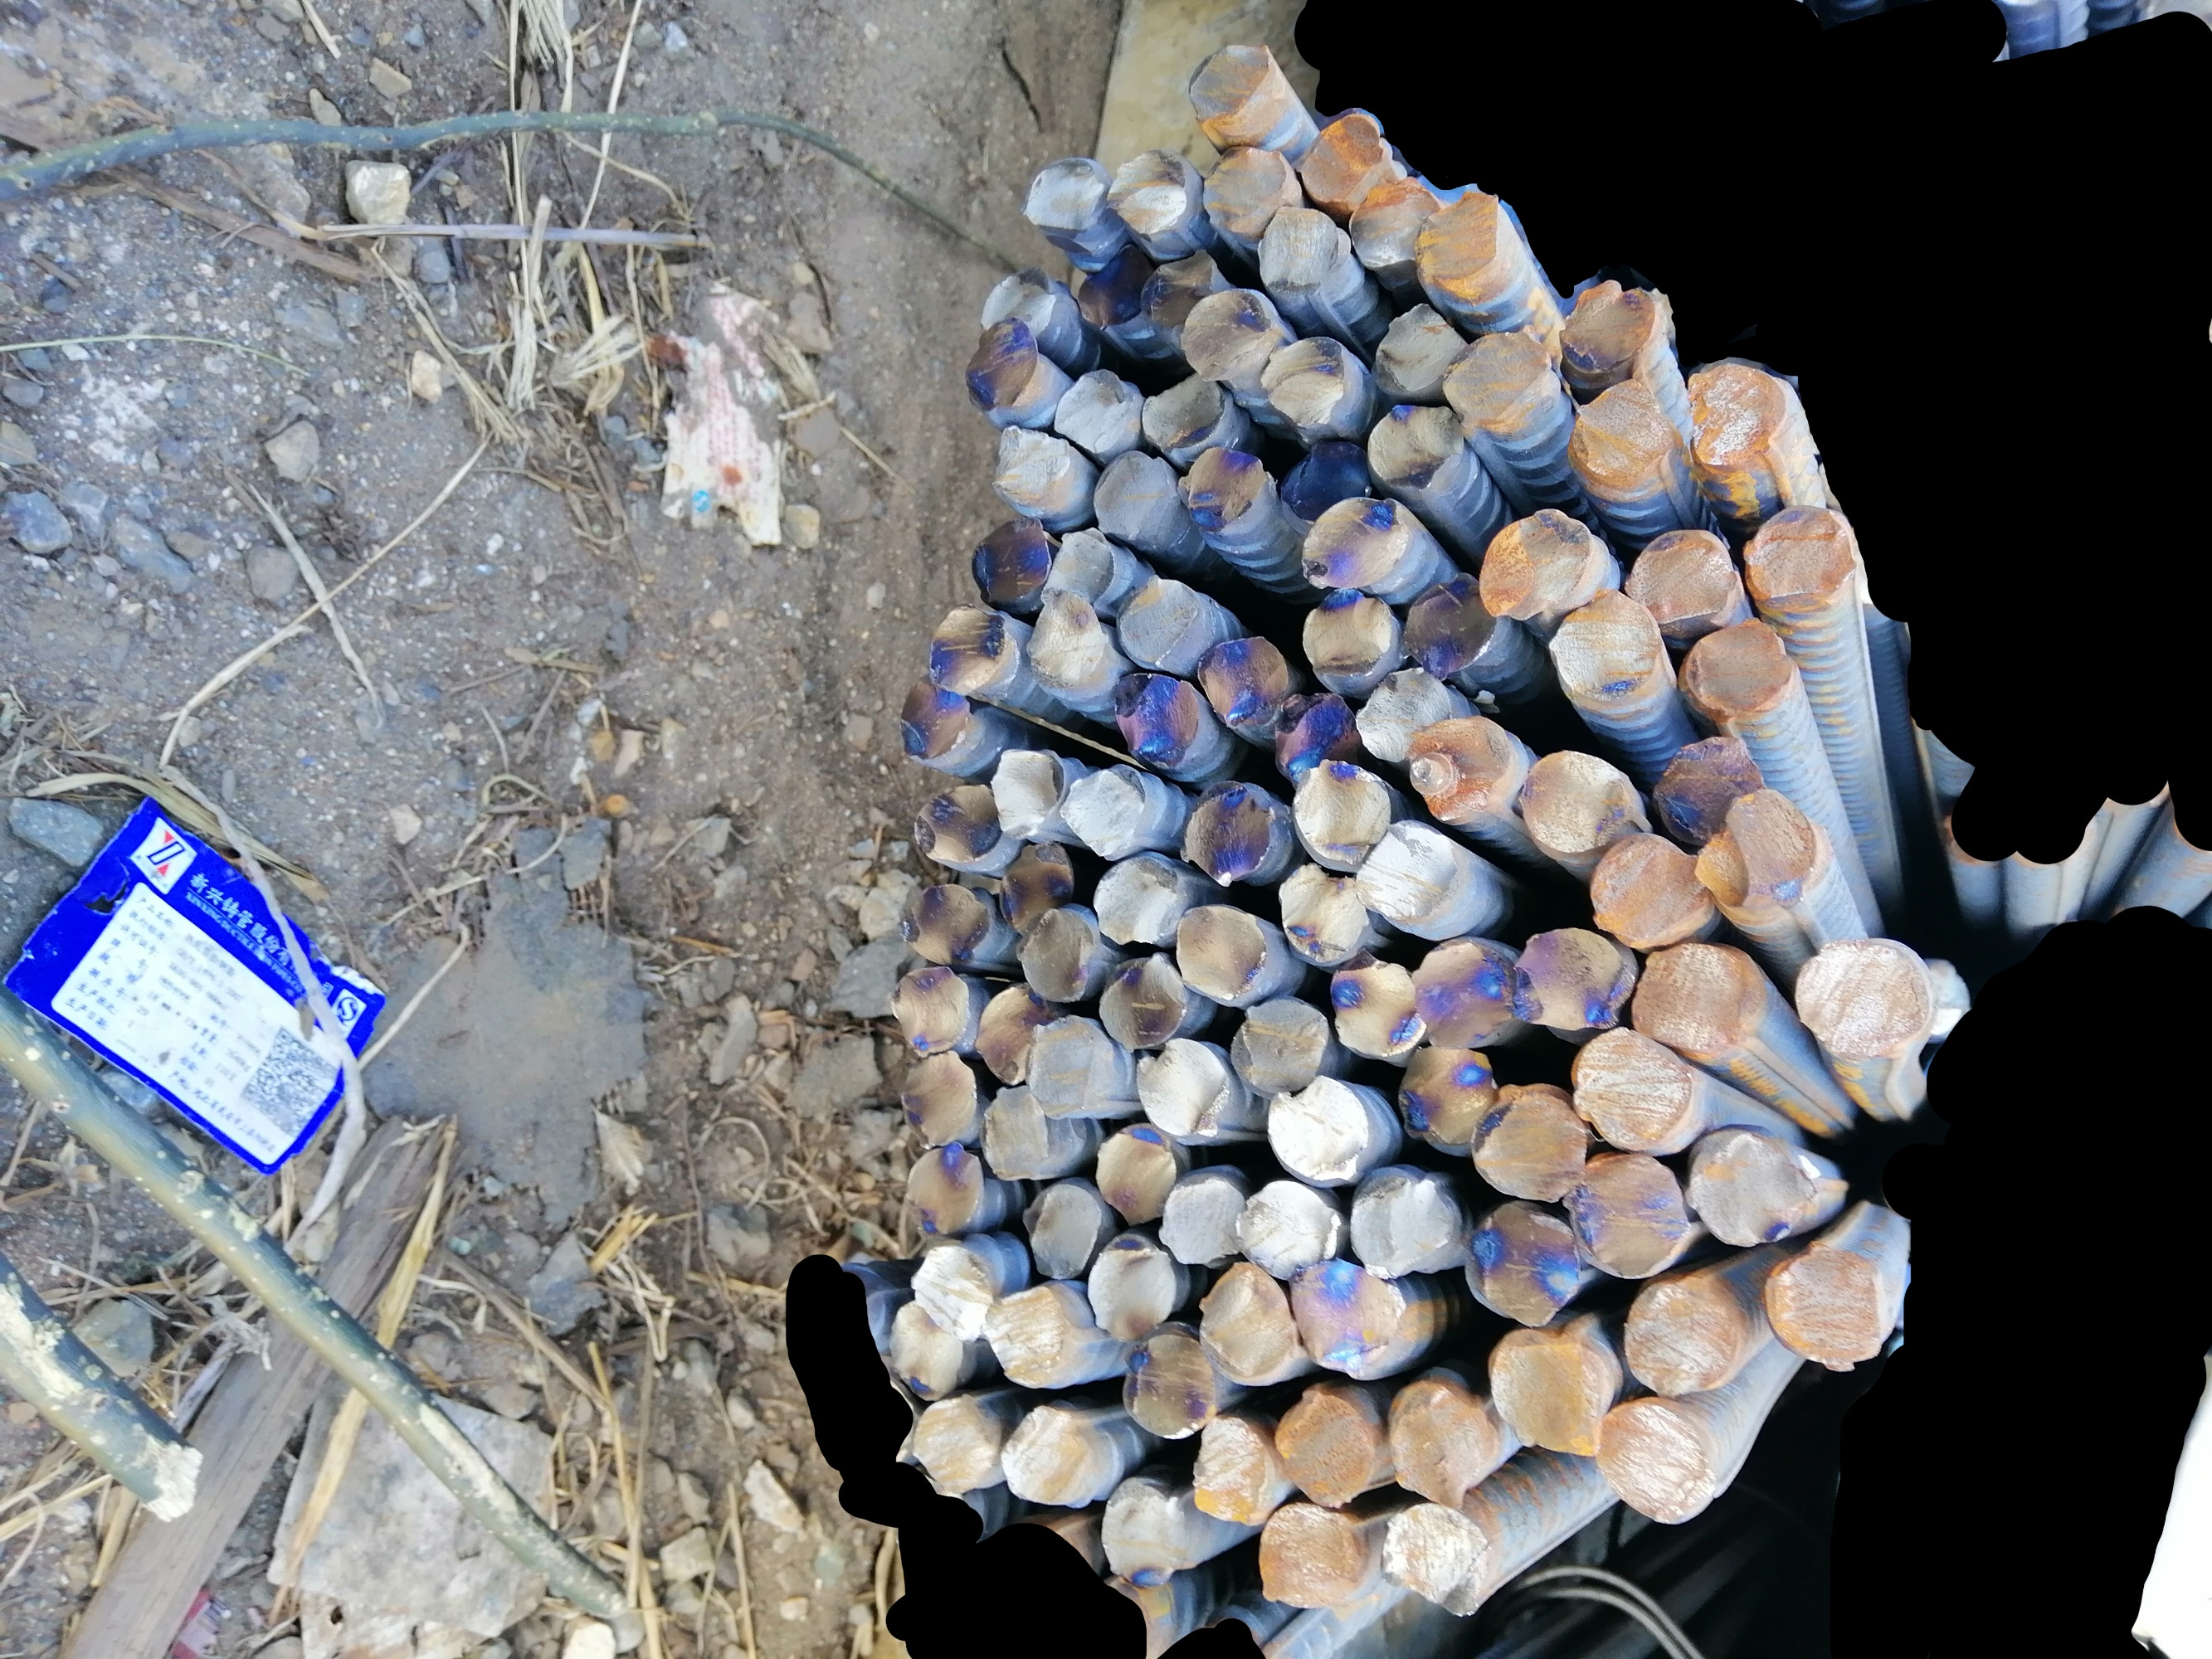rebar: (1628, 938, 1768, 1068), (1794, 932, 1935, 1061), (1560, 1148, 1693, 1281), (1686, 1124, 1816, 1256), (1691, 782, 1818, 917), (1483, 1323, 1607, 1459), (1764, 1241, 1886, 1377), (1593, 1392, 1717, 1523), (1468, 1079, 1591, 1208), (1571, 1025, 1693, 1154), (1462, 1201, 1581, 1330), (1591, 828, 1710, 950), (1475, 500, 1591, 622), (1677, 612, 1801, 727), (1623, 1276, 1736, 1401), (1651, 734, 1773, 849), (1290, 1248, 1405, 1368), (1515, 748, 1642, 856), (1194, 1256, 1297, 1389), (1738, 498, 1855, 613), (1381, 1380, 1485, 1507), (1382, 1502, 1497, 1617), (1349, 1161, 1457, 1283), (1546, 587, 1659, 701), (1503, 925, 1623, 1032), (1274, 1382, 1372, 1511), (1621, 526, 1743, 629), (1408, 936, 1515, 1051), (1264, 1073, 1370, 1187), (1686, 359, 1790, 472), (1401, 716, 1515, 821), (1119, 1319, 1217, 1439), (1259, 1504, 1365, 1614), (1567, 373, 1672, 484), (1557, 267, 1663, 375), (1231, 1175, 1339, 1281), (1356, 817, 1462, 924), (1297, 495, 1414, 591), (1328, 950, 1431, 1058), (1396, 1037, 1499, 1145), (1175, 777, 1278, 884), (1414, 181, 1510, 295), (1295, 755, 1393, 864), (1002, 1401, 1096, 1514), (1100, 1471, 1184, 1593), (1445, 329, 1551, 425), (1023, 589, 1116, 699), (1353, 662, 1452, 763), (1288, 112, 1393, 207), (1178, 277, 1276, 378), (1232, 995, 1328, 1098), (1089, 1232, 1180, 1340), (1095, 950, 1191, 1051), (1117, 573, 1211, 676), (1405, 565, 1490, 678), (1137, 1037, 1227, 1141), (1194, 1412, 1274, 1528), (1175, 903, 1269, 1002), (1276, 863, 1368, 964), (1374, 300, 1469, 396), (1198, 629, 1285, 734), (1089, 450, 1184, 545), (1110, 669, 1203, 767), (1201, 145, 1297, 237), (927, 605, 1020, 699), (1299, 587, 1394, 678), (1276, 434, 1375, 521), (903, 1141, 987, 1244), (987, 1286, 1070, 1389), (973, 507, 1055, 612), (1347, 174, 1435, 272), (1062, 760, 1149, 857), (1093, 849, 1180, 946), (994, 836, 1079, 936), (1095, 1126, 1178, 1227), (901, 1049, 981, 1154), (1185, 40, 1279, 129), (1025, 1009, 1100, 1121), (1105, 145, 1192, 240), (1262, 331, 1347, 429), (1020, 1182, 1103, 1281), (910, 1392, 994, 1492), (1365, 401, 1455, 491), (910, 779, 1001, 870), (903, 882, 994, 972), (1157, 1175, 1248, 1265), (1259, 202, 1347, 295), (912, 1244, 992, 1345), (1274, 688, 1356, 786), (1014, 906, 1096, 1004), (1175, 443, 1264, 532), (1037, 523, 1126, 612), (978, 983, 1053, 1086), (887, 1300, 962, 1403), (1051, 364, 1137, 453), (1142, 368, 1227, 457), (891, 965, 969, 1058), (1079, 235, 1152, 333), (966, 317, 1039, 415), (987, 420, 1074, 502), (898, 669, 974, 760), (990, 744, 1062, 840), (1020, 157, 1105, 237), (1140, 244, 1220, 329), (983, 1084, 1049, 1183), (978, 265, 1060, 345)
